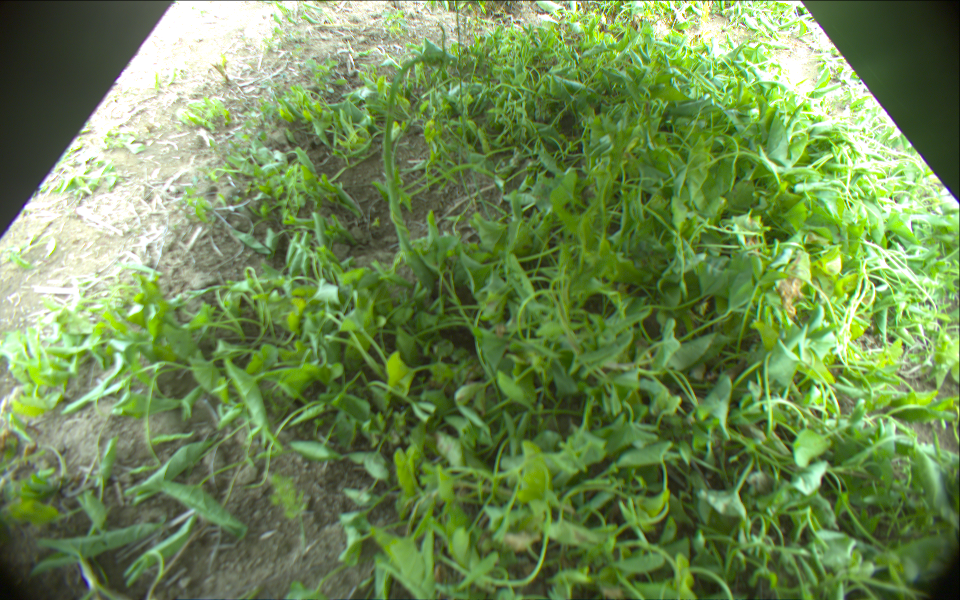aspa: (384, 53, 442, 296)
